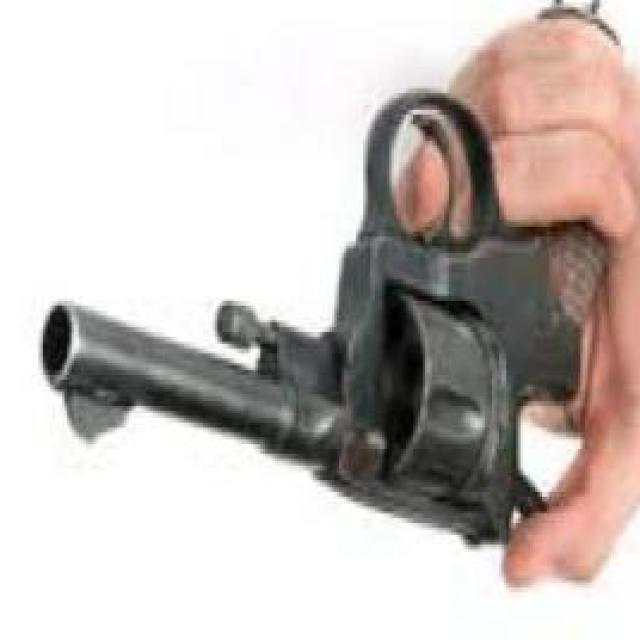pistol: (43, 13, 627, 554)
